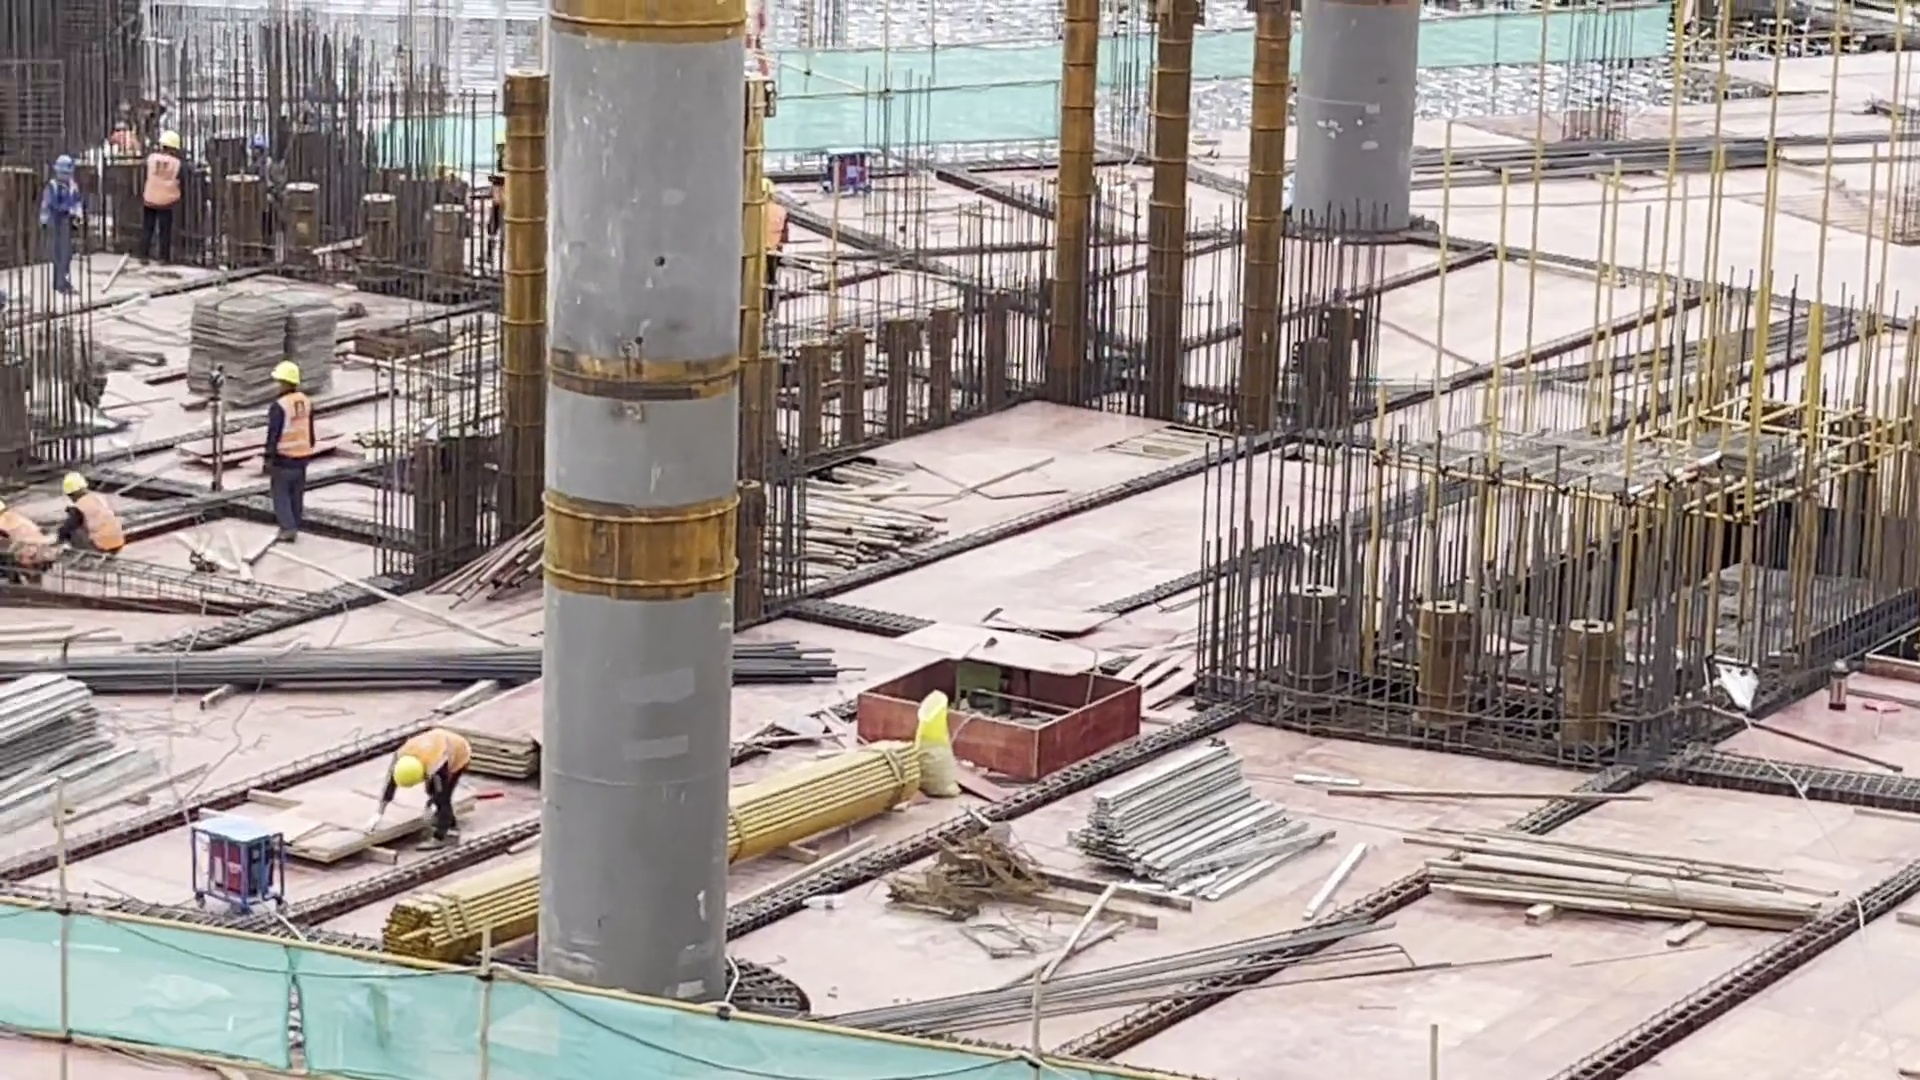helmet: (392, 755, 427, 788), (269, 358, 302, 385), (61, 469, 87, 495), (158, 127, 181, 149)
person: (373, 716, 471, 839), (264, 359, 317, 545), (37, 156, 84, 290), (55, 470, 126, 556), (144, 123, 178, 256), (1, 509, 53, 590), (760, 181, 786, 323)
vest: (392, 729, 470, 780), (67, 496, 124, 554), (273, 392, 315, 464)
wood: (1400, 821, 1840, 943), (811, 480, 948, 562)
